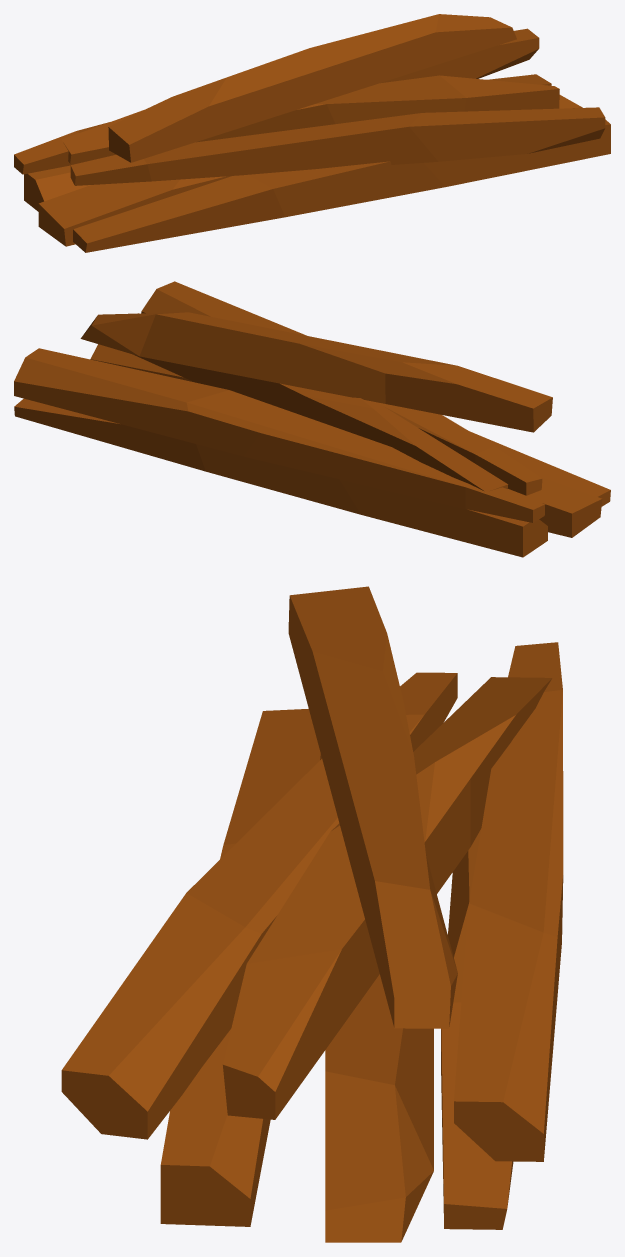
The model's file is kayu.fbx.
3 views of the same model, one above another, from view 1: azimuth 30°, elevation 25°; view 2: azimuth 150°, elevation 25°; view 3: azimuth 270°, elevation 25° (orthographic). The views are drawn at different scales.
Parts seen in each view (by area): view 1: kayu; view 2: kayu; view 3: kayu.
Part boxes in pixels (x1,y1,x2,y2): kayu: [14, 14, 610, 252]; kayu: [14, 281, 610, 557]; kayu: [61, 586, 563, 1242].
Bounding box in the file's own units: 139 × 29.69 × 57.44.
